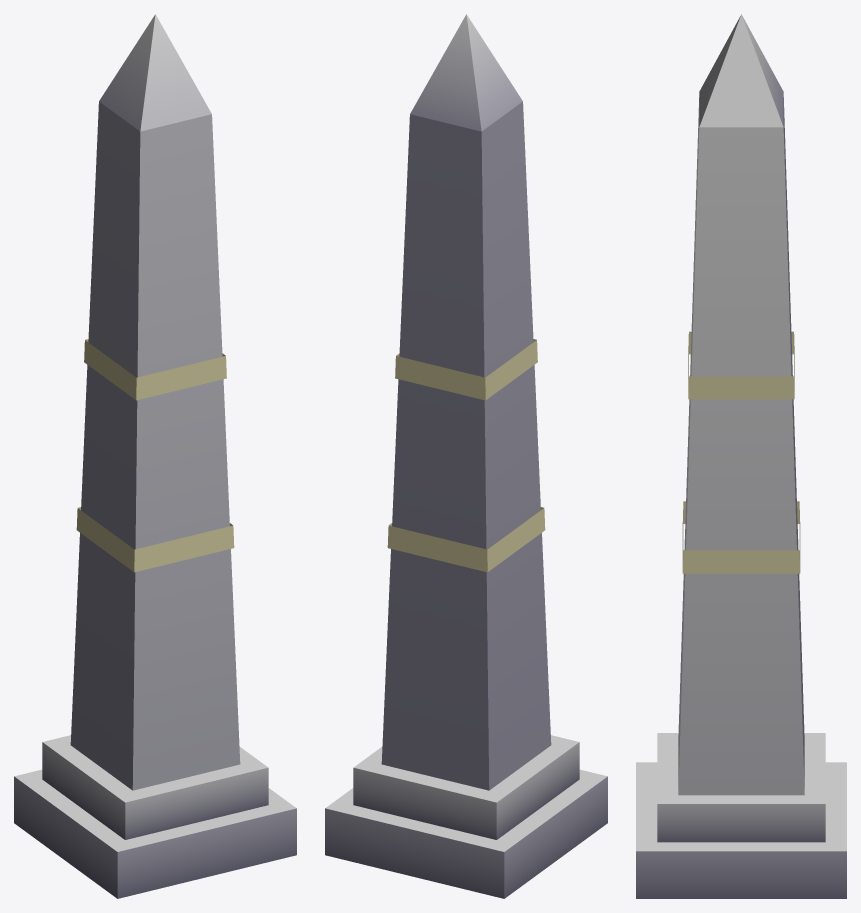
Rendered from cel_obelisk.glb.
3 renders of one model, left to right at view 1: azimuth 30°, elevation 25°; view 2: azimuth 150°, elevation 25°; view 3: azimuth 270°, elevation 25°, orthographic.
Visible parts, largest first — view 1: obelisk; view 2: obelisk; view 3: obelisk.
Part boxes in pixels (box(x1,y1,x2,y2)): obelisk: box(14, 14, 296, 898); obelisk: box(325, 14, 607, 898); obelisk: box(636, 14, 846, 898).
Size of the model in its own units: 1 by 4.4 by 1.
